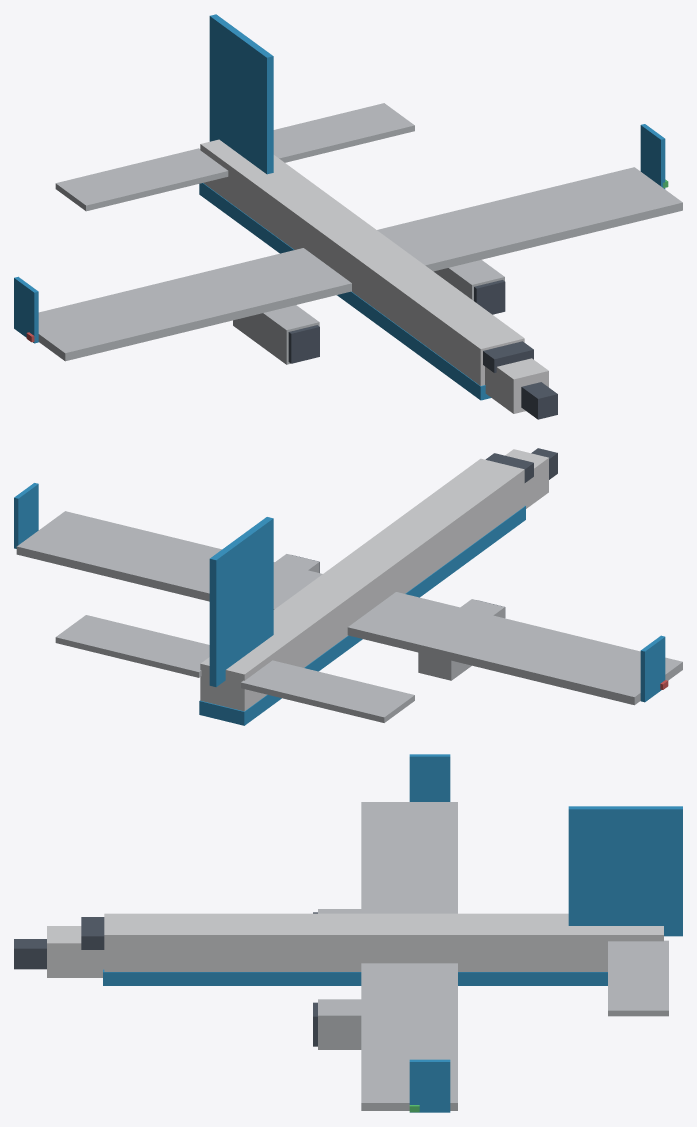
The model's file is aircraft.glb.
3 renders of one model, top to bottom at view 1: azimuth 30°, elevation 25°; view 2: azimuth 150°, elevation 25°; view 3: azimuth 270°, elevation 25°, orthographic.
Parts seen in each view (by area): view 1: AeroTwin_Commercial_Jet; view 2: AeroTwin_Commercial_Jet; view 3: AeroTwin_Commercial_Jet.
Part boxes in pixels (<box>): AeroTwin_Commercial_Jet: <box>14,14,682,419</box>; AeroTwin_Commercial_Jet: <box>14,448,682,725</box>; AeroTwin_Commercial_Jet: <box>14,754,682,1112</box>.
Bounding box in the file's own units: 28.85 × 8.2 × 26.3.
